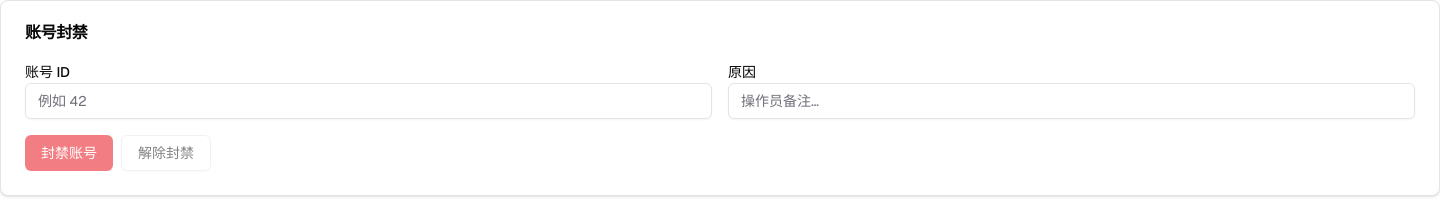
Test: AbuseClient › disables ban button until a valid account ID is entered
Expected: the button "封禁账号" is disabled, x1=25 y1=135 x2=113 y2=171
Type "42" into the field labelled "账号 ID". click: [368, 101]
box: x1=25 y1=83 x2=712 y2=119
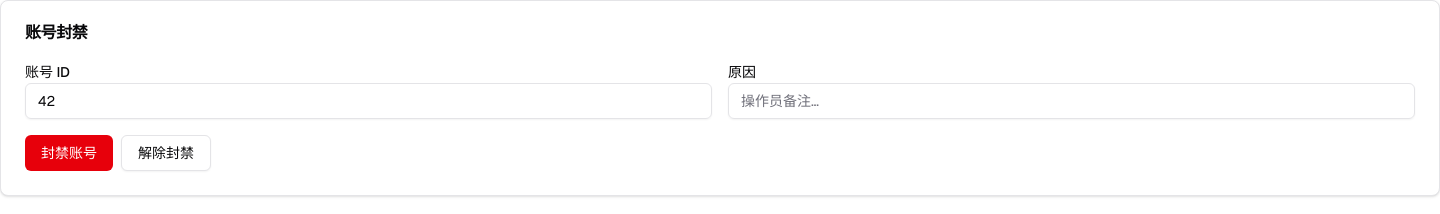
Result: the button "封禁账号" is enabled at x1=25 y1=135 x2=113 y2=171
